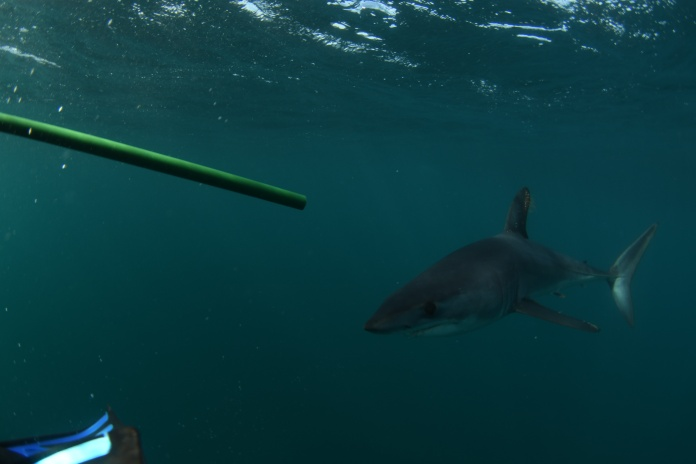Mako: (358, 183, 669, 358)
